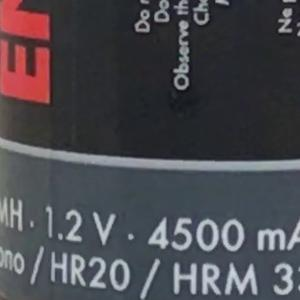HR20: (42, 250, 139, 293)
